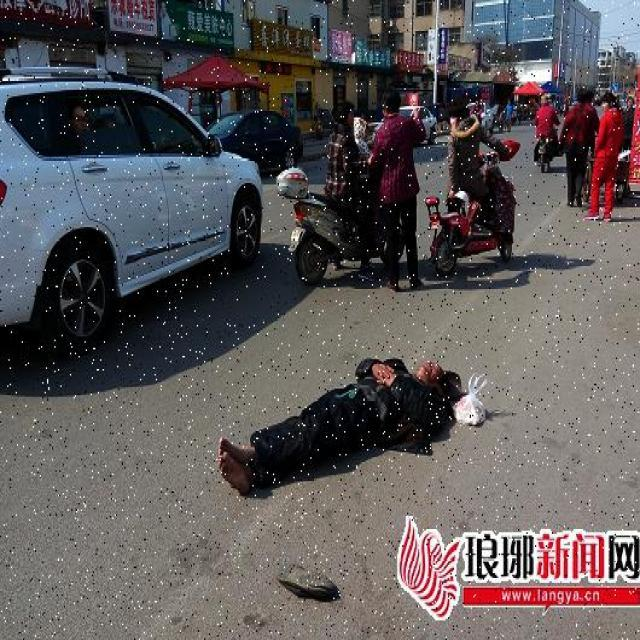fall: (216, 346, 454, 496)
